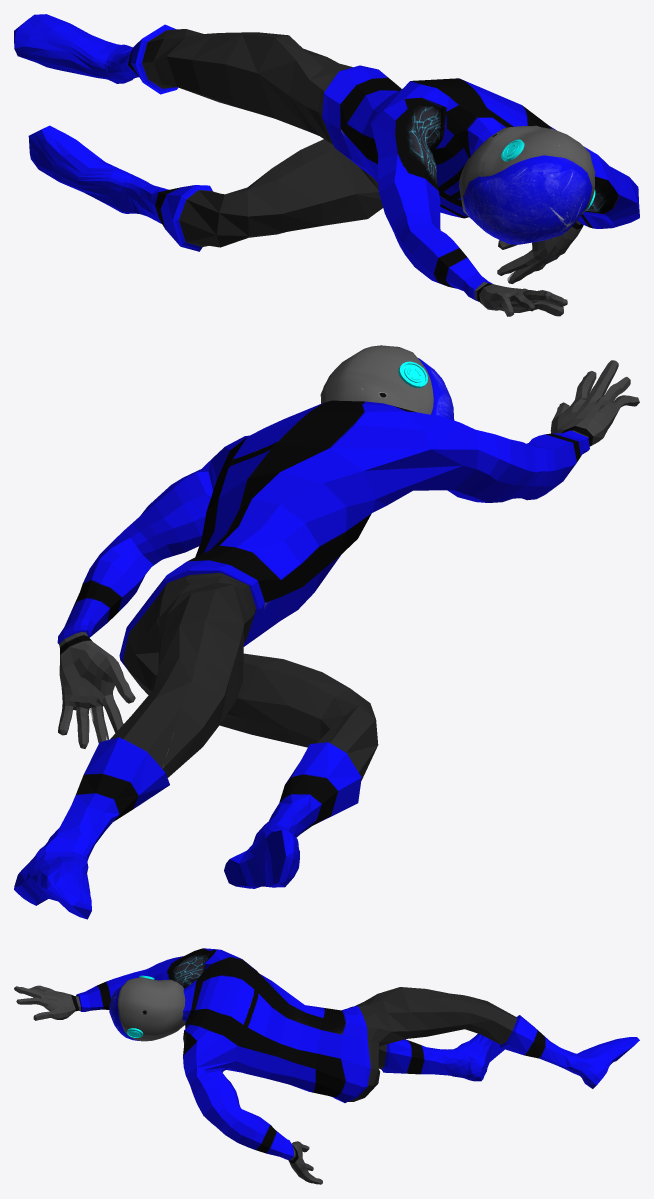
3 renders of one model, top to bottom at view 1: azimuth 30°, elevation 25°; view 2: azimuth 150°, elevation 25°; view 3: azimuth 270°, elevation 25°, orthographic. The views are drawn at different scales.
Parts seen in each view (by area): view 1: Piernas1, Brazos2, Cabeza1; view 2: Brazos2, Piernas1, Cabeza1; view 3: Brazos2, Piernas1, Cabeza1.
Boxes of the visible parts, x1,y1,x2,y2 form: Piernas1: (14,14,382,251); Brazos2: (322,65,639,316); Cabeza1: (459,125,595,244); Brazos2: (57,360,639,748); Piernas1: (14,572,378,919); Cabeza1: (320,345,454,420); Brazos2: (14,948,370,1184); Piernas1: (348,987,639,1101); Cabeza1: (109,975,185,1041).
Bounding box in the file's own units: 93.3 × 66.23 × 211.
